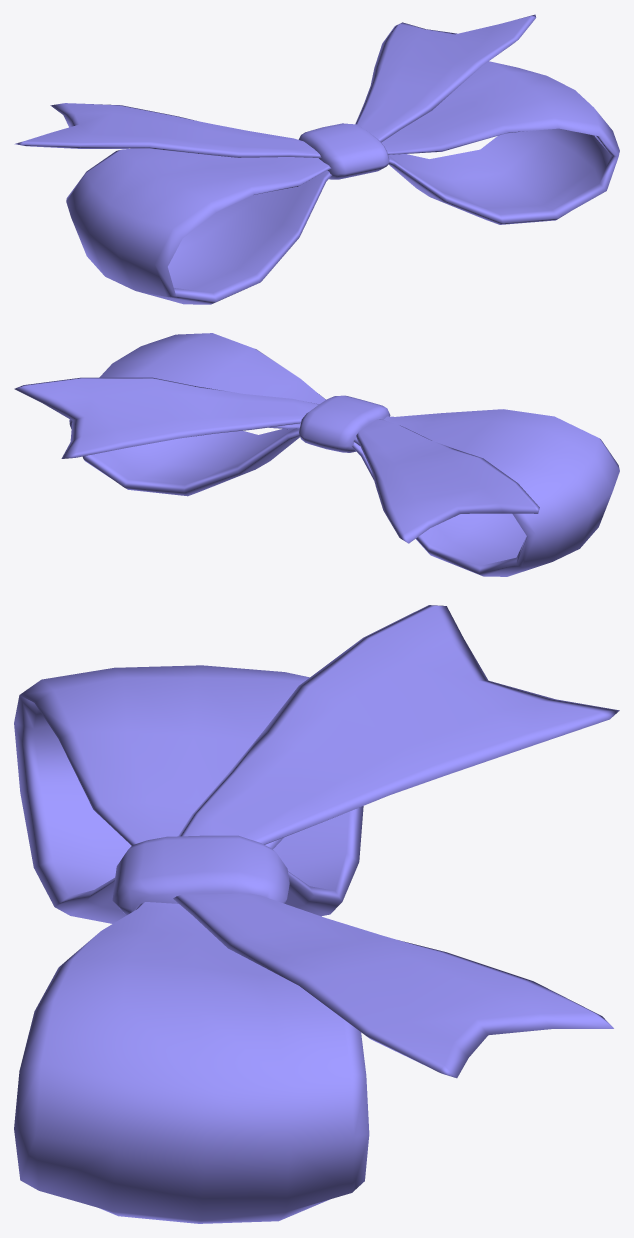
Rendered from atama_ribbon.dae.
3 views of the same model, one above another, from view 1: azimuth 30°, elevation 25°; view 2: azimuth 150°, elevation 25°; view 3: azimuth 270°, elevation 25° (orthographic). The views are drawn at different scales.
Parts seen in each view (by area): view 1: o_acs_head_ribbon_00_0; view 2: o_acs_head_ribbon_00_0; view 3: o_acs_head_ribbon_00_0.
Boxes of the visible parts, x1,y1,x2,y2 form: o_acs_head_ribbon_00_0: (14, 14, 619, 304); o_acs_head_ribbon_00_0: (14, 333, 619, 576); o_acs_head_ribbon_00_0: (14, 605, 619, 1223).
Bounding box in the file's own units: 0.1499 × 0.0813 × 0.0335.
